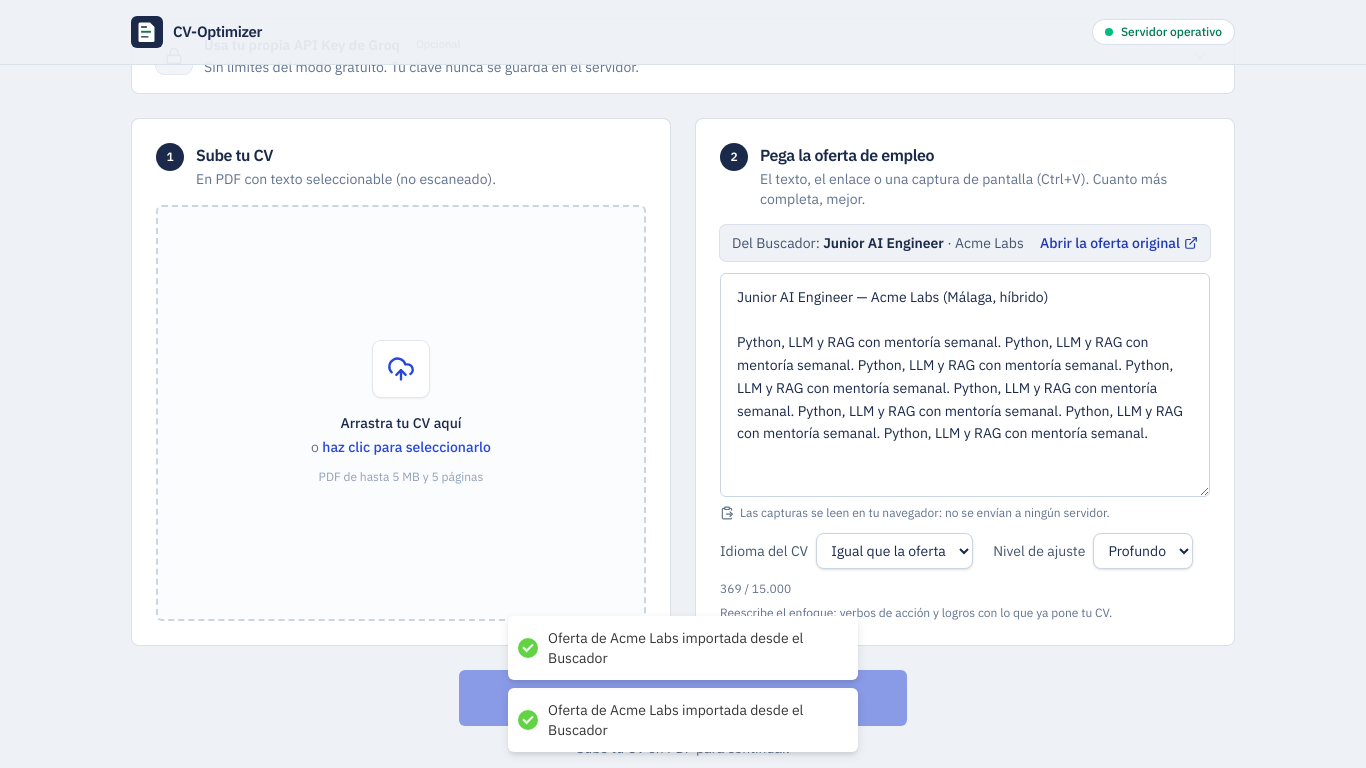
Test case: App y el Buscador › si se borra la oferta, se olvida de dónde venía
The image size is (1366, 768).
(page scrolled)
Clear the text box named "Texto de la oferta de empleo" at x=965, y=385, box [720,273,1210,497]
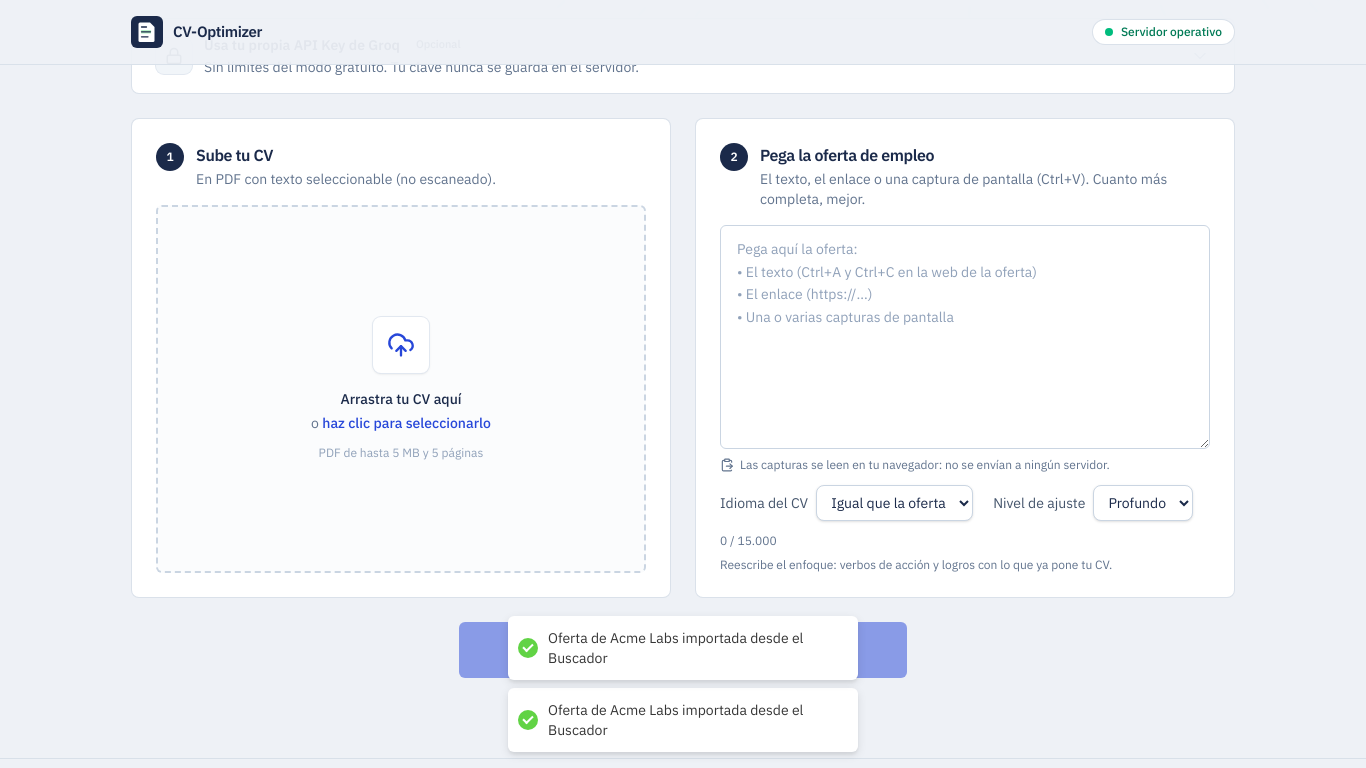
Result: the link "Abrir la oferta original" is gone
